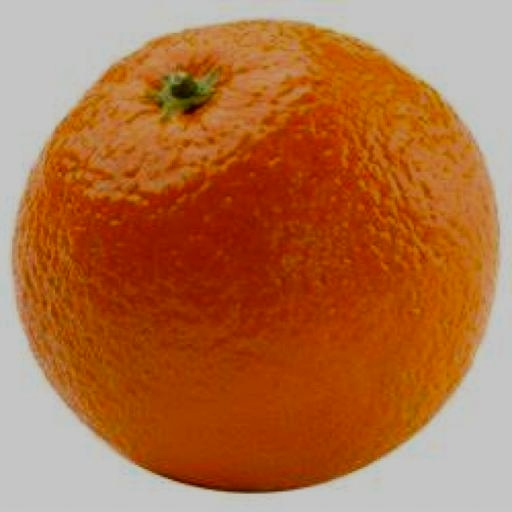fruit: (14, 22, 496, 489)
